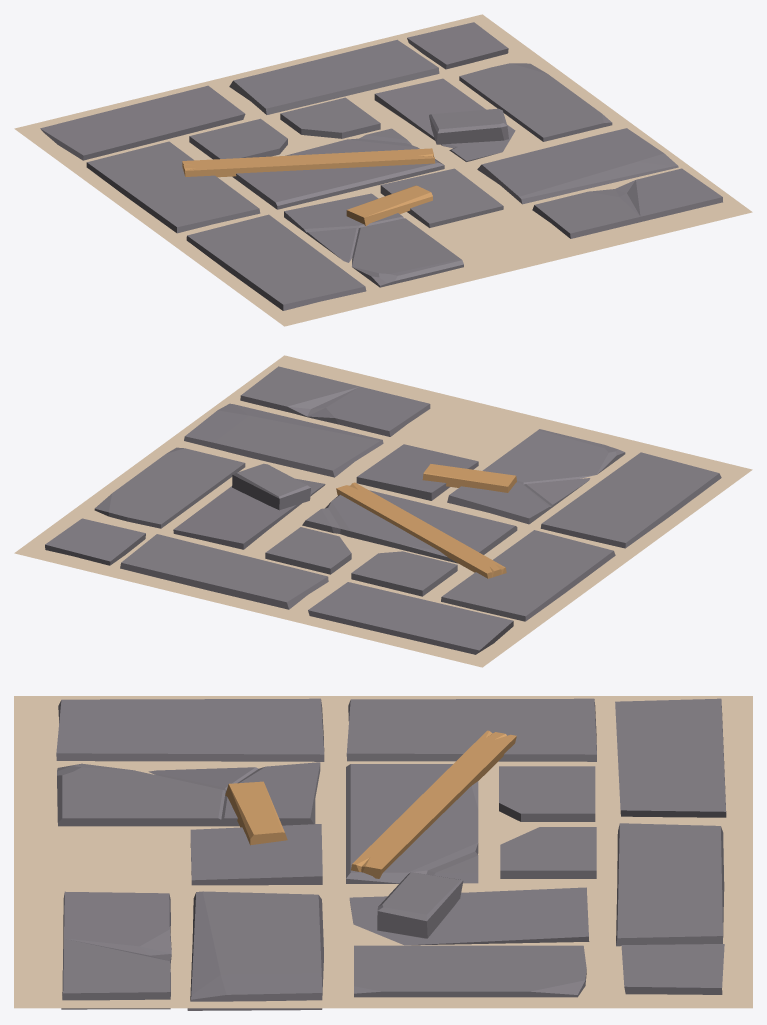
Rendered from ground_tiles_4.fbx.
The picture shows the model from 3 angles, top to bottom: view 1: azimuth 30°, elevation 25°; view 2: azimuth 150°, elevation 25°; view 3: azimuth 270°, elevation 25°; orthographic projection. The views are drawn at different scales.
Visible parts, largest first — view 1: Ground_Tile_4; view 2: Ground_Tile_4; view 3: Ground_Tile_4.
Boxes of the visible parts, x1,y1,x2,y2 form: Ground_Tile_4: (14,14,752,326); Ground_Tile_4: (14,355,752,667); Ground_Tile_4: (14,696,752,1010).
Size of the model in its own units: 1200 by 77.29 by 1200.
